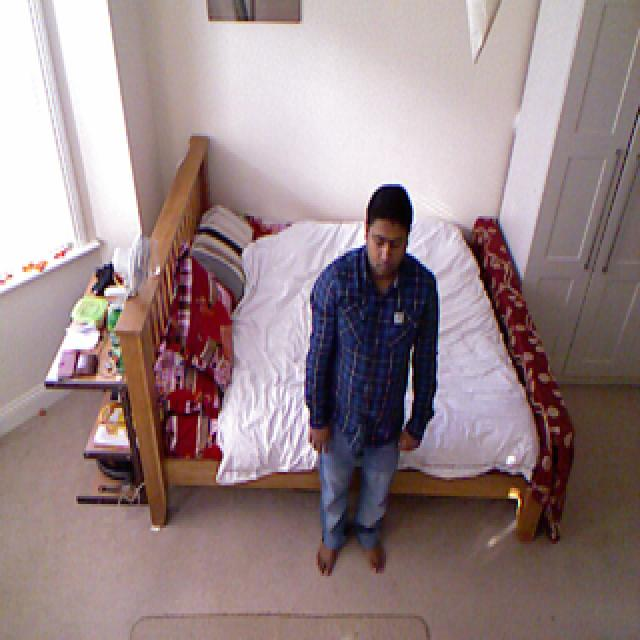standing: (300, 185, 441, 588)
